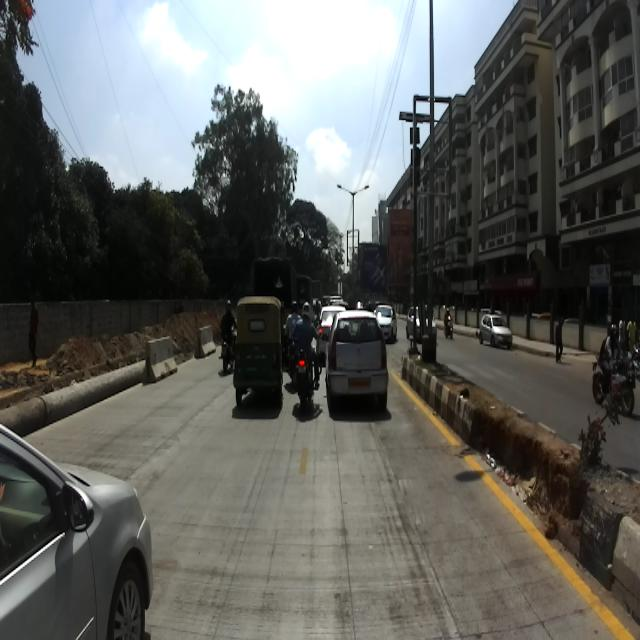auto ahead at: (232, 294, 285, 426)
barrier ahead at: (144, 331, 180, 388)
car ahead at: (0, 420, 159, 640), (326, 306, 394, 416)
motorcycle ahead at: (290, 343, 322, 414)
